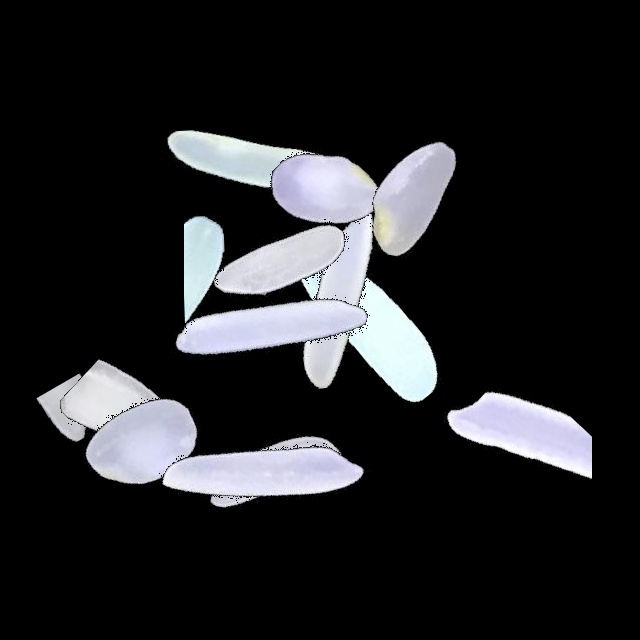Broken: (428, 348, 592, 598), (60, 306, 215, 556), (29, 312, 150, 562), (184, 169, 299, 419), (225, 134, 475, 214)
Full: (247, 200, 497, 450), (215, 171, 465, 421), (131, 38, 381, 288), (197, 65, 447, 315), (150, 346, 400, 596), (156, 137, 406, 387), (147, 205, 397, 455), (287, 74, 537, 324), (20, 315, 270, 565), (139, 350, 389, 600)
